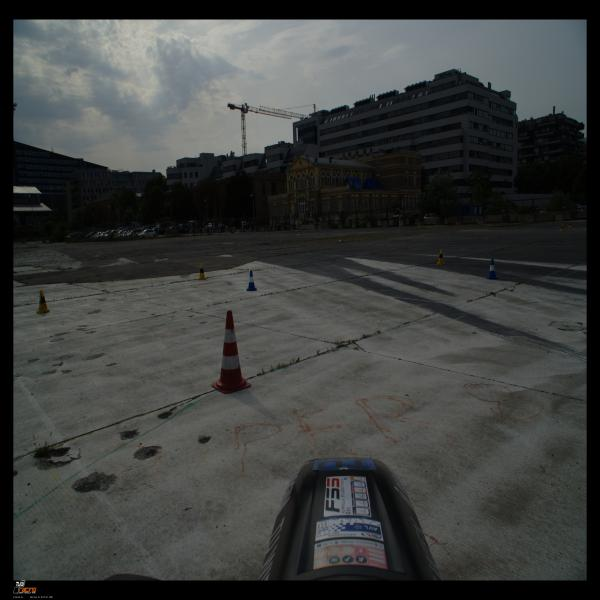blue_cone: (485, 259, 499, 280), (246, 270, 257, 292)
large_orange_cone: (212, 310, 251, 394)
yellow_cone: (35, 289, 52, 314), (197, 263, 207, 280), (436, 249, 446, 265), (560, 224, 564, 232), (568, 221, 572, 228)
